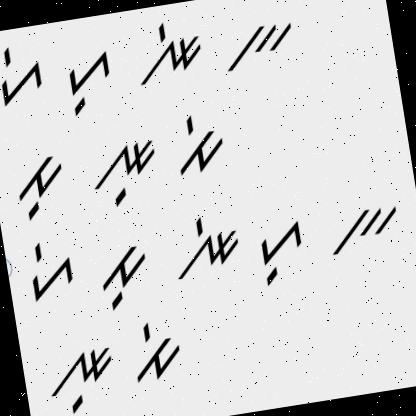he: (18, 234, 86, 304), (0, 40, 51, 112)
hu: (56, 41, 121, 118), (249, 213, 312, 290)
mbe: (124, 312, 188, 390), (166, 108, 232, 178)
mbu: (88, 234, 154, 312), (8, 147, 73, 224)
nde: (160, 208, 250, 289), (127, 16, 208, 90)
ndu: (82, 136, 166, 216), (40, 340, 126, 416)
